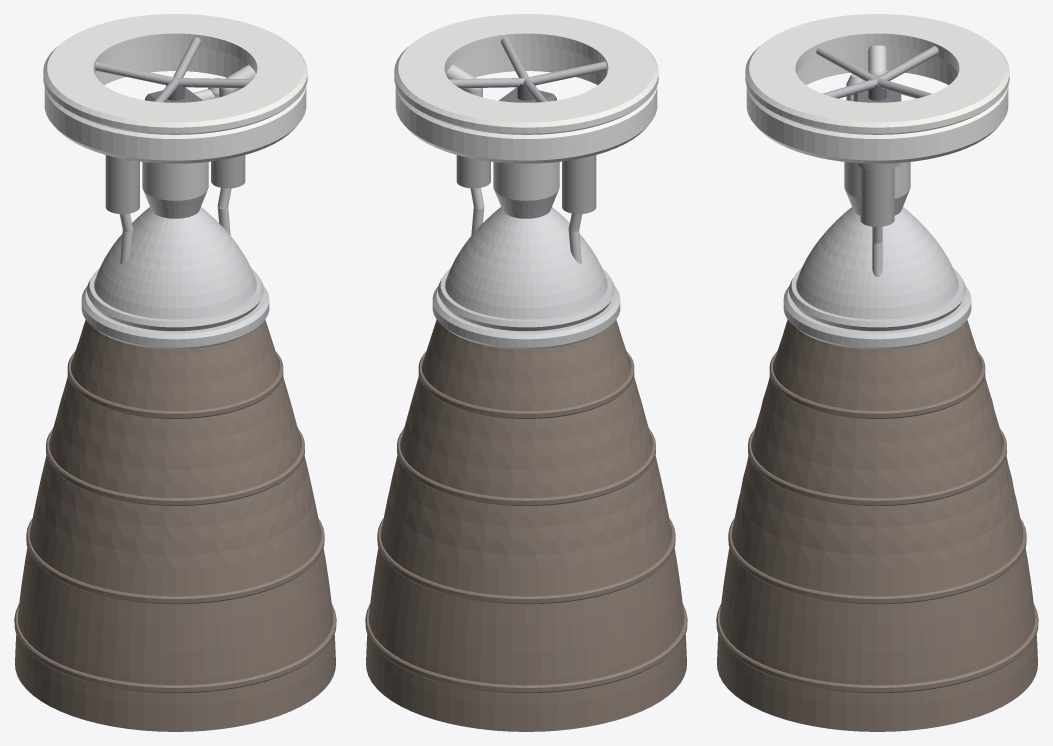
The model's file is ax_prop_01_methalox_vacuum.glb.
3 renders of one model, left to right at view 1: azimuth 30°, elevation 25°; view 2: azimuth 150°, elevation 25°; view 3: azimuth 270°, elevation 25°, orthographic.
Visible parts, largest first — view 1: nozzle_extension, mount_ring, regen_nozzle, thermal_blanket_ring, extension_hoops, joint_flange, chamber, turbopumps, regen_manifold, thrust_struts, plumbing; view 2: nozzle_extension, mount_ring, regen_nozzle, thermal_blanket_ring, extension_hoops, joint_flange, chamber, turbopumps, regen_manifold, thrust_struts, plumbing; view 3: nozzle_extension, mount_ring, regen_nozzle, extension_hoops, thermal_blanket_ring, joint_flange, regen_manifold, turbopumps, thrust_struts, chamber, plumbing, gimbal.
Boxes of the visible parts, x1,y1,x2,y2 form: nozzle_extension: [15, 320, 335, 731]; mount_ring: [43, 14, 307, 134]; regen_nozzle: [94, 207, 256, 331]; thermal_blanket_ring: [44, 45, 306, 163]; extension_hoops: [14, 351, 336, 693]; joint_flange: [81, 286, 269, 349]; chamber: [142, 162, 208, 218]; turbopumps: [105, 155, 245, 214]; regen_manifold: [87, 268, 263, 330]; thrust_struts: [95, 37, 252, 102]; plumbing: [119, 64, 255, 263]; nozzle_extension: [366, 320, 686, 731]; mount_ring: [394, 14, 658, 134]; regen_nozzle: [445, 207, 607, 331]; thermal_blanket_ring: [395, 45, 657, 163]; extension_hoops: [365, 351, 687, 693]; joint_flange: [432, 286, 620, 349]; chamber: [493, 162, 559, 218]; turbopumps: [456, 155, 596, 214]; regen_manifold: [438, 268, 614, 330]; thrust_struts: [449, 37, 606, 102]; plumbing: [446, 64, 582, 263]; nozzle_extension: [717, 320, 1037, 731]; mount_ring: [745, 14, 1009, 134]; regen_nozzle: [796, 207, 958, 331]; extension_hoops: [716, 351, 1038, 693]; thermal_blanket_ring: [746, 45, 1008, 163]; joint_flange: [783, 286, 971, 349]; regen_manifold: [789, 268, 965, 330]; turbopumps: [856, 163, 896, 226]; thrust_struts: [816, 46, 938, 98]; chamber: [844, 162, 910, 215]; plumbing: [849, 45, 886, 276]; gimbal: [853, 84, 901, 102].
Bounding box in the file's own units: 2.43 × 4.97 × 2.43.
